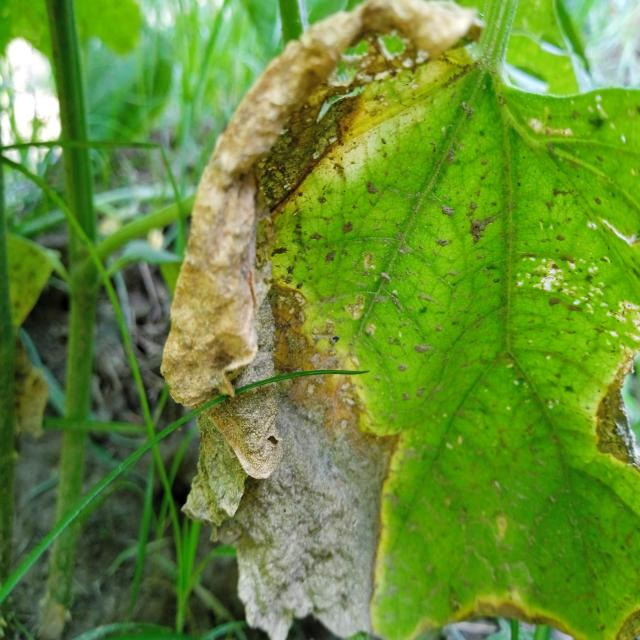cucumber_gummy: (159, 0, 640, 640)
